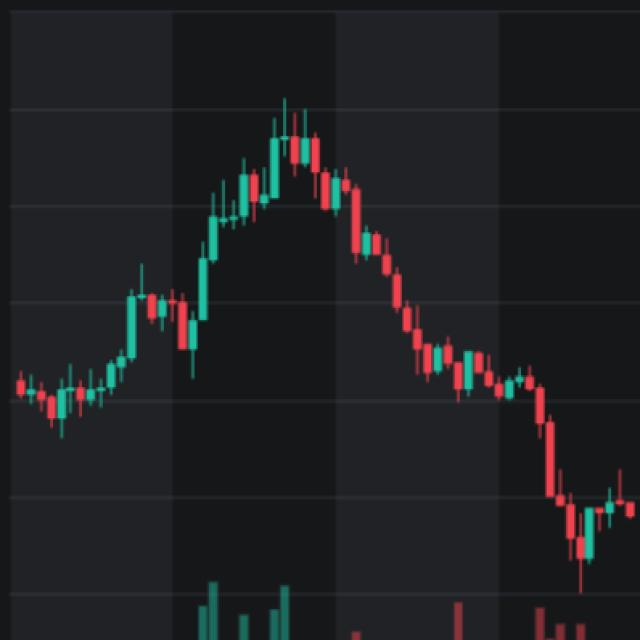Support-breakout: (200, 120, 592, 585)
